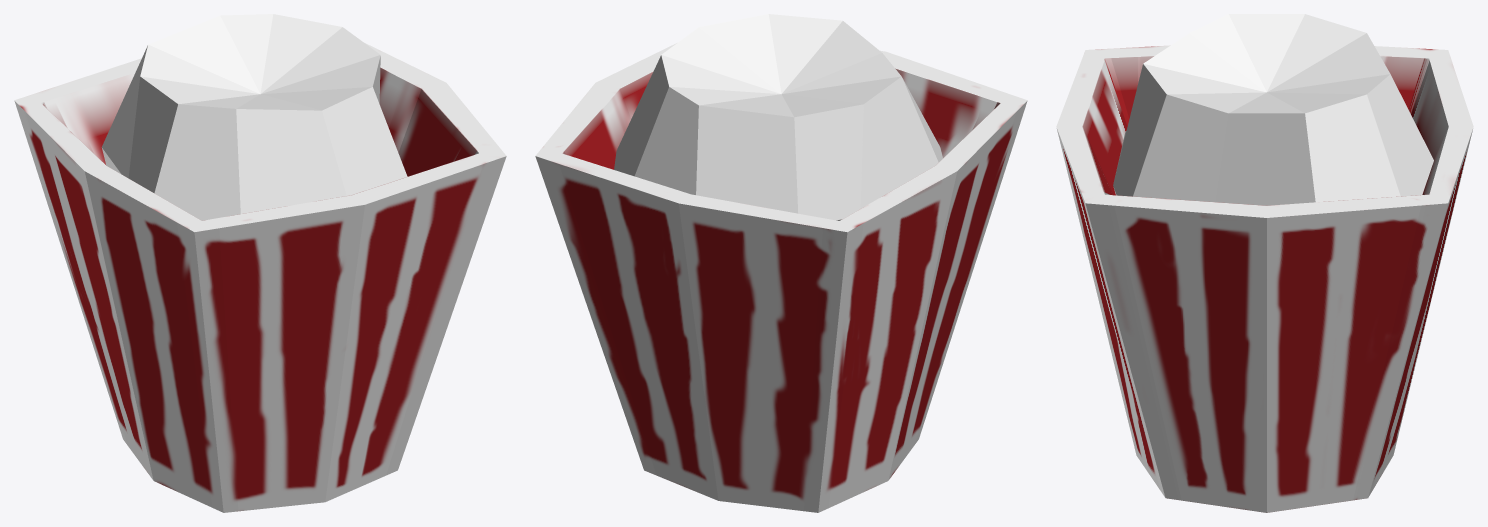
Rendered from Popcorn.glb.
3 views of the same model, side by side, from view 1: azimuth 30°, elevation 25°; view 2: azimuth 150°, elevation 25°; view 3: azimuth 270°, elevation 25° (orthographic).
Parts seen in each view (by area): view 1: Cube, Sphere; view 2: Cube, Sphere; view 3: Cube, Sphere.
Boxes of the visible parts, bbox=[...] form: Cube: bbox=[14, 43, 506, 512]; Sphere: bbox=[101, 14, 407, 220]; Cube: bbox=[535, 43, 1027, 512]; Sphere: bbox=[614, 14, 942, 220]; Cube: bbox=[1056, 45, 1473, 512]; Sphere: bbox=[1113, 14, 1433, 205].
Bounding box in the file's own units: 2.32 × 2.38 × 2.3.
Materials: 2 (1 with a texture image).
